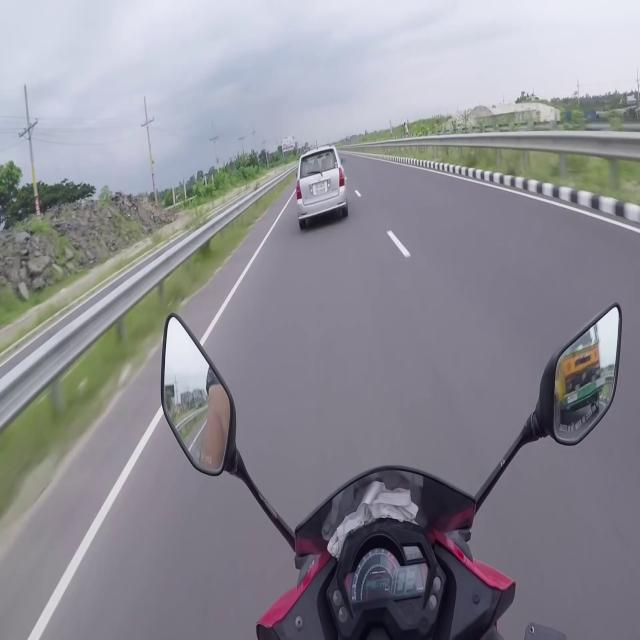silver: (292, 147, 348, 234)
